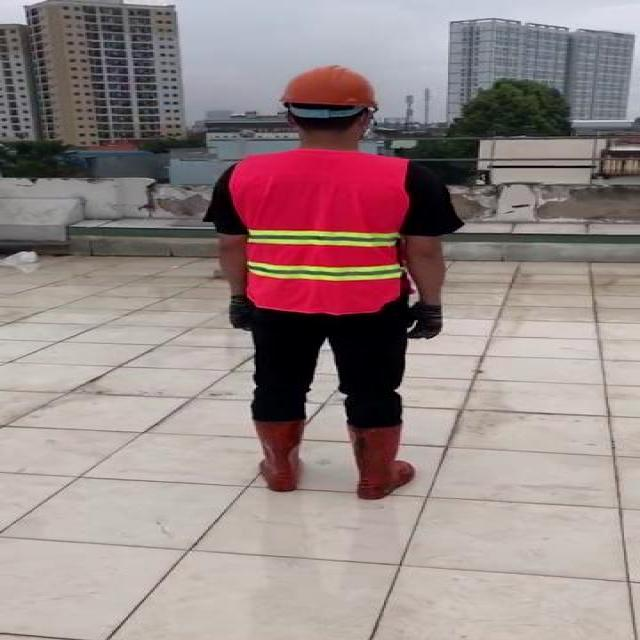boots: (343, 423, 421, 503), (250, 420, 306, 493)
hand_glove: (402, 302, 446, 339), (226, 294, 256, 339)
head_helmet: (273, 62, 381, 110)
person: (193, 63, 454, 502)
vest: (229, 148, 407, 314)
